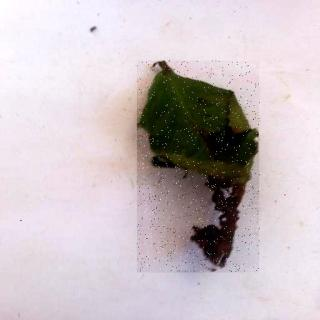Brown Blight: (139, 62, 262, 274)
